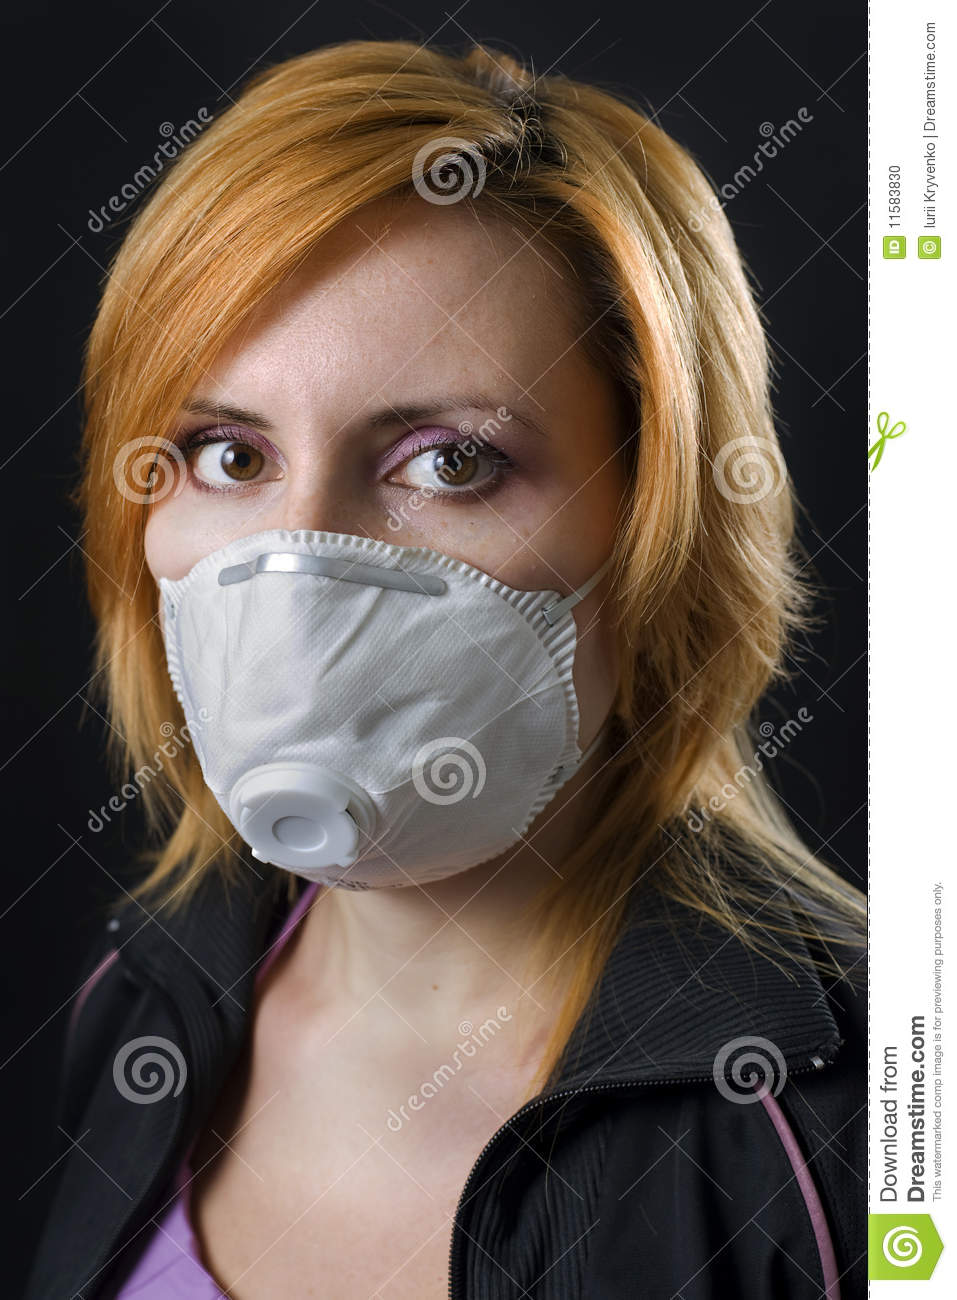mask: (152, 528, 586, 895)
